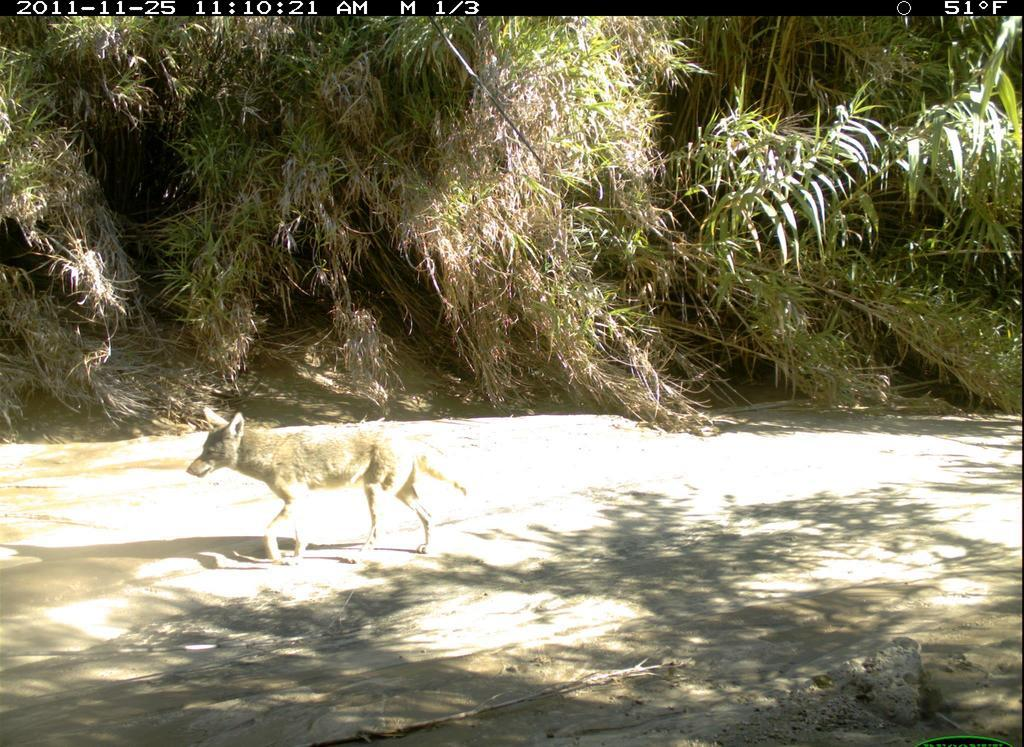coyote: (185, 402, 479, 568)
